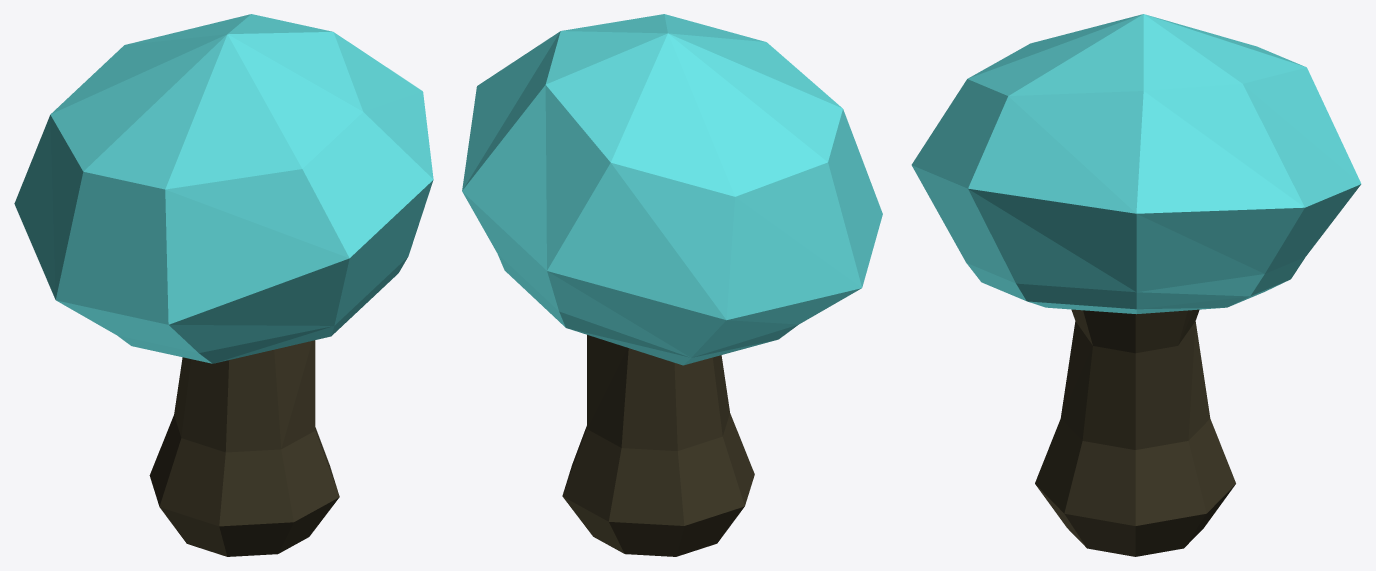
File: MiniChampi3.FBX
The picture shows the model from 3 angles, left to right: view 1: azimuth 30°, elevation 25°; view 2: azimuth 150°, elevation 25°; view 3: azimuth 270°, elevation 25°; orthographic projection. The views are drawn at different scales.
Parts seen in each view (by area): view 1: Sphere004, Cylinder003; view 2: Sphere004, Cylinder003; view 3: Sphere004, Cylinder003.
Boxes of the visible parts, box(x1,y1,x2,y2) form: Sphere004: box(14, 14, 433, 363); Cylinder003: box(149, 340, 339, 556); Sphere004: box(462, 14, 882, 365); Cylinder003: box(562, 335, 754, 556); Sphere004: box(911, 14, 1361, 314); Cylinder003: box(1035, 309, 1235, 556).
Bounding box in the file's own units: 0.1677 × 0.2173 × 0.1708.
